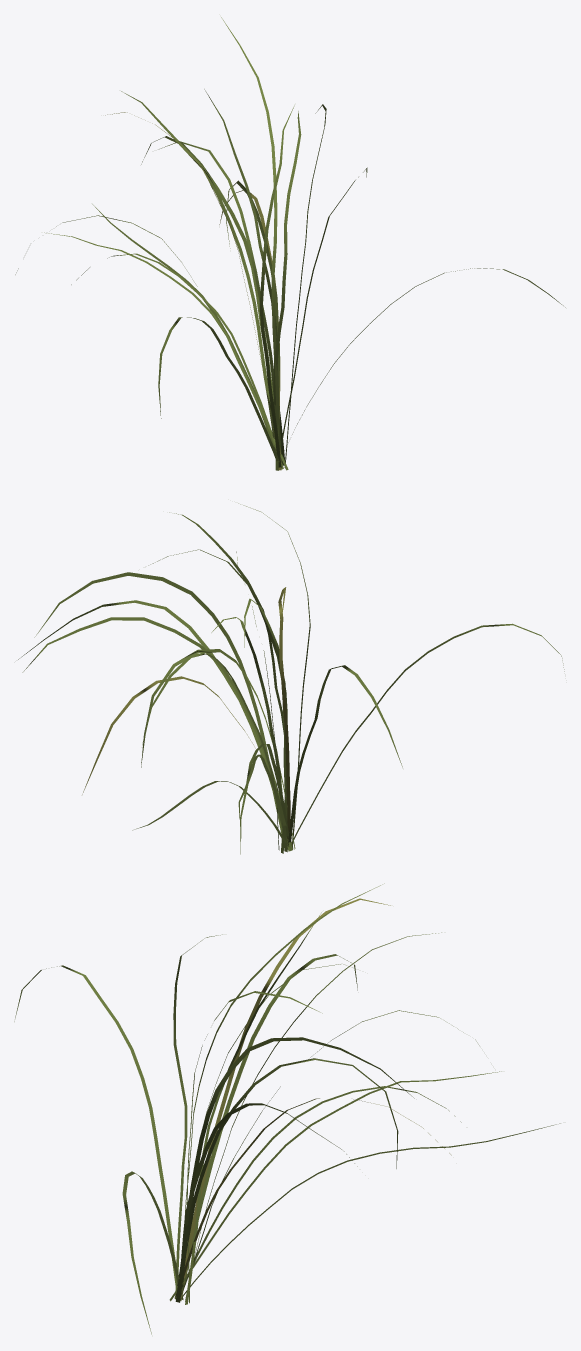
Rendered from capim_1_longe.glb.
The picture shows the model from 3 angles, top to bottom: view 1: azimuth 30°, elevation 25°; view 2: azimuth 150°, elevation 25°; view 3: azimuth 270°, elevation 25°; orthographic projection. The views are drawn at different scales.
Visible parts, largest first — view 1: capim_1_longe; view 2: capim_1_longe; view 3: capim_1_longe.
Boxes of the visible parts, x1=… form: capim_1_longe: x1=15, y1=17, x2=565, y2=470; capim_1_longe: x1=18, y1=503, x2=564, y2=854; capim_1_longe: x1=14, y1=883, x2=560, y2=1334.
Bounding box in the file's own units: 1.29 × 1.01 × 1.17.
